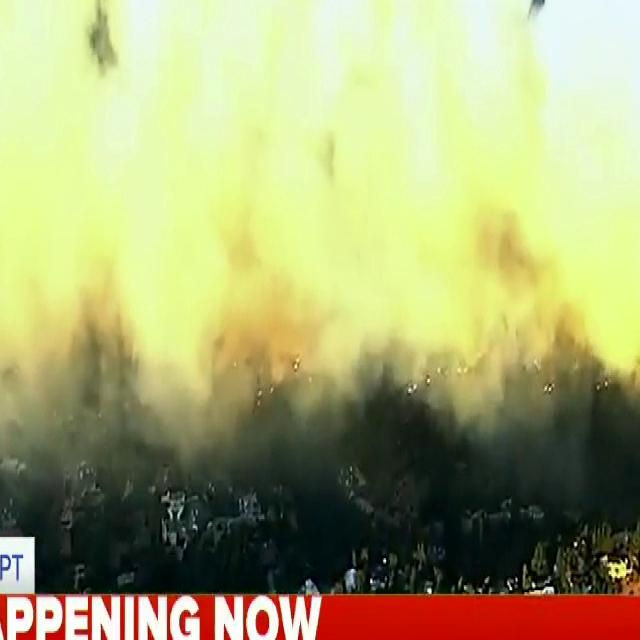smoke: (0, 0, 640, 411), (255, 0, 552, 411), (0, 0, 254, 407), (552, 0, 640, 373)
